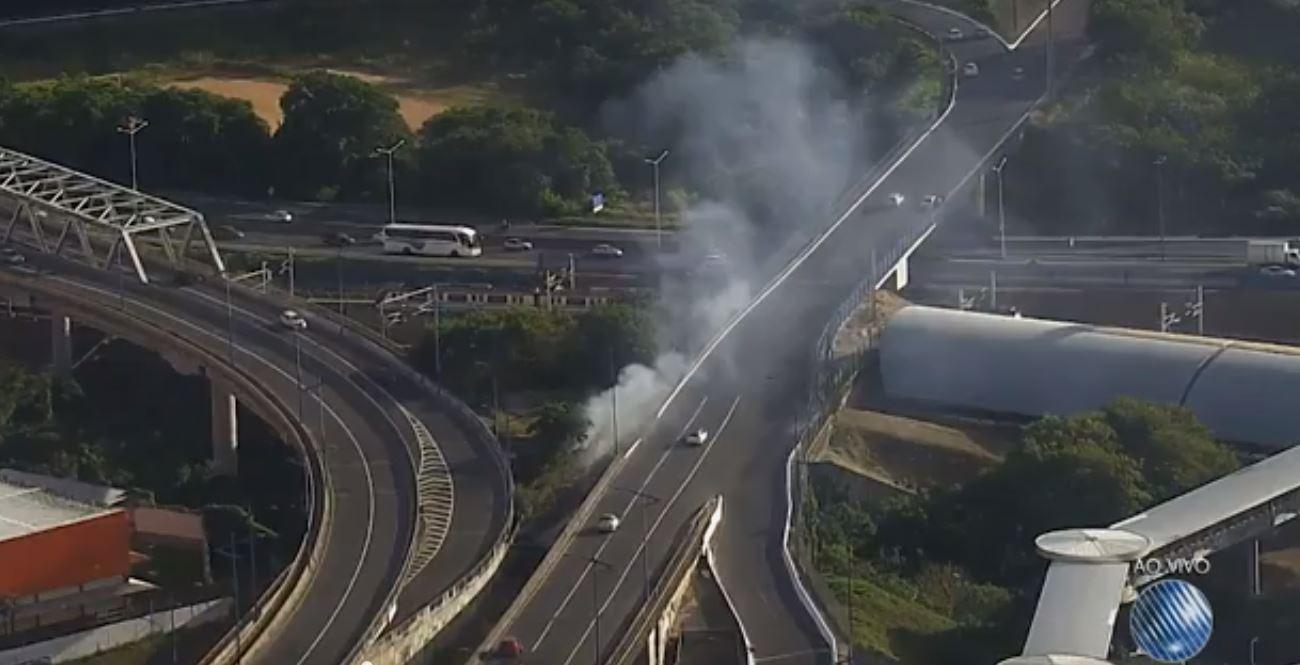smoke: (693, 77, 845, 202), (675, 230, 742, 340), (607, 378, 650, 430)
